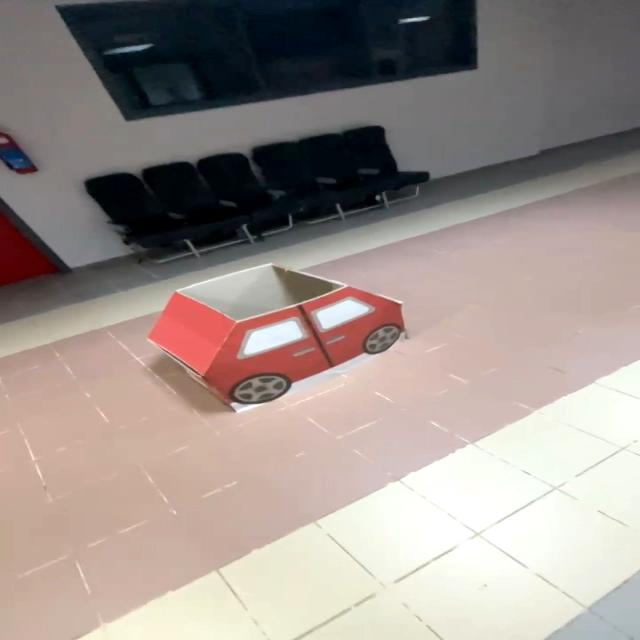red_car: (116, 254, 442, 420)
